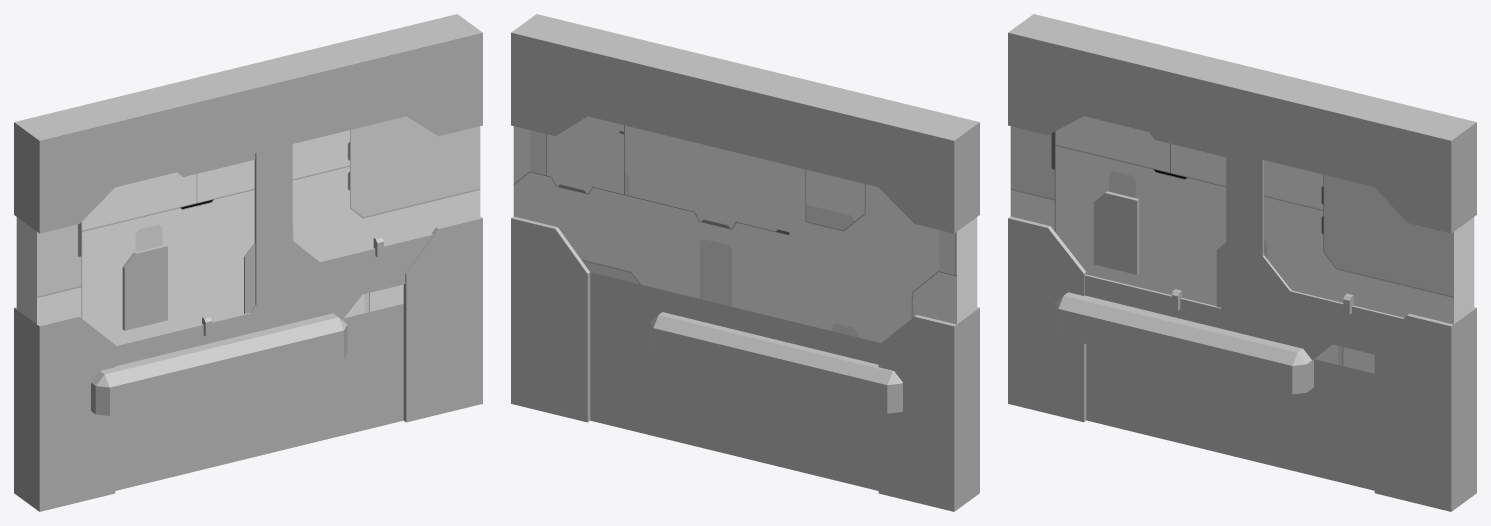
Rendered from SM_Wall_5x3_1.fbx.
The picture shows the model from 3 angles, left to right: view 1: azimuth 30°, elevation 25°; view 2: azimuth 150°, elevation 25°; view 3: azimuth 330°, elevation 25°; orthographic projection.
Visible parts, largest first — view 1: SM_Wall_5x3_1; view 2: SM_Wall_5x3_1; view 3: SM_Wall_5x3_1.
Boxes of the visible parts, box(x1,y1,x2,y2) form: SM_Wall_5x3_1: box(14, 14, 482, 511); SM_Wall_5x3_1: box(511, 14, 979, 511); SM_Wall_5x3_1: box(1008, 14, 1476, 511).
Size of the model in its own units: 500 by 400 by 82.27.
